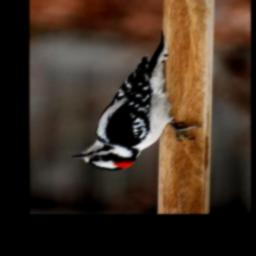Woodpecker: (71, 32, 202, 171)
